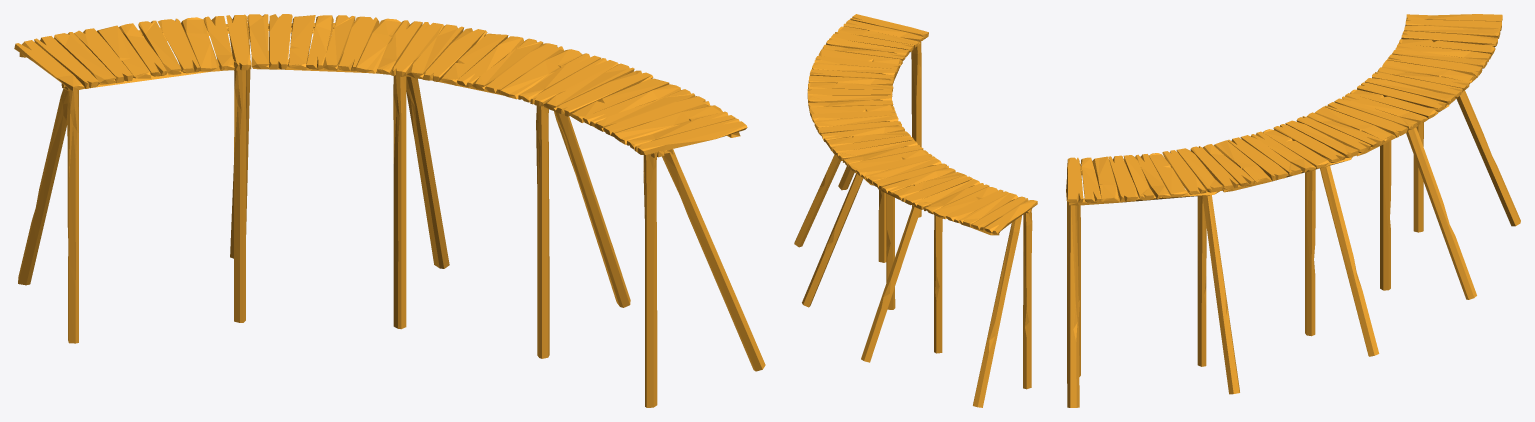
File: SM_Palisade_Gallery_Corner_Round_9x9_Convex_A.fbx
3 views of the same model, side by side, from view 1: azimuth 30°, elevation 25°; view 2: azimuth 150°, elevation 25°; view 3: azimuth 270°, elevation 25° (orthographic). The views are drawn at different scales.
Visible parts, largest first — view 1: palisade-gallery-corner-round-9x9-convex-a; view 2: palisade-gallery-corner-round-9x9-convex-a; view 3: palisade-gallery-corner-round-9x9-convex-a.
Part boxes in pixels (<box>): palisade-gallery-corner-round-9x9-convex-a: <box>14,14,765,407</box>; palisade-gallery-corner-round-9x9-convex-a: <box>794,14,1037,407</box>; palisade-gallery-corner-round-9x9-convex-a: <box>1066,14,1520,407</box>.
Bounding box in the file's own units: 9.41 × 4.84 × 9.34.
